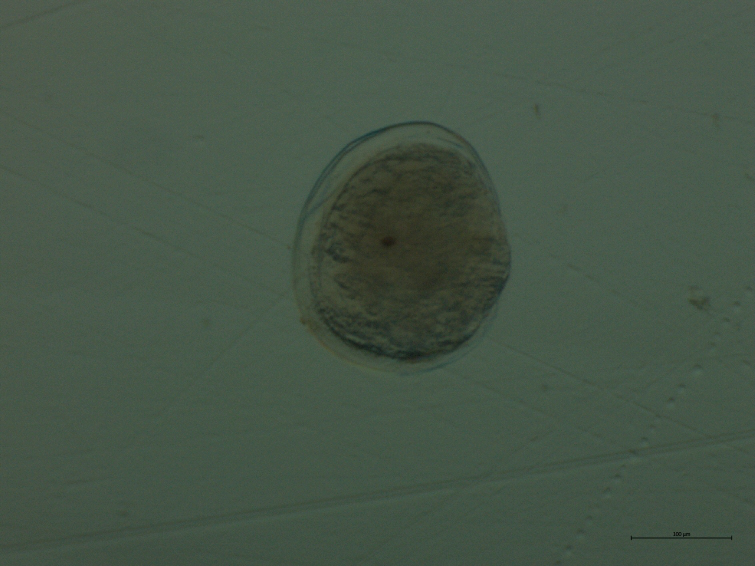oyster: (282, 111, 522, 393)
